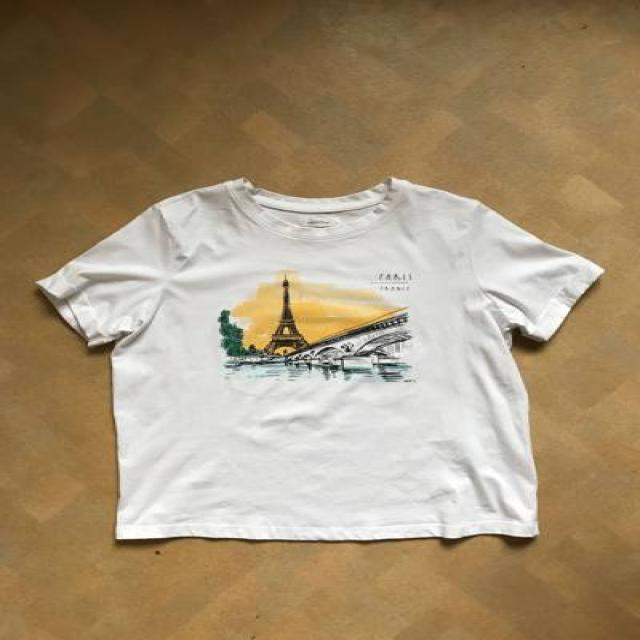shirt: (36, 174, 604, 544)
